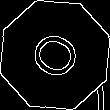O_SE: (22, 24, 88, 86)
